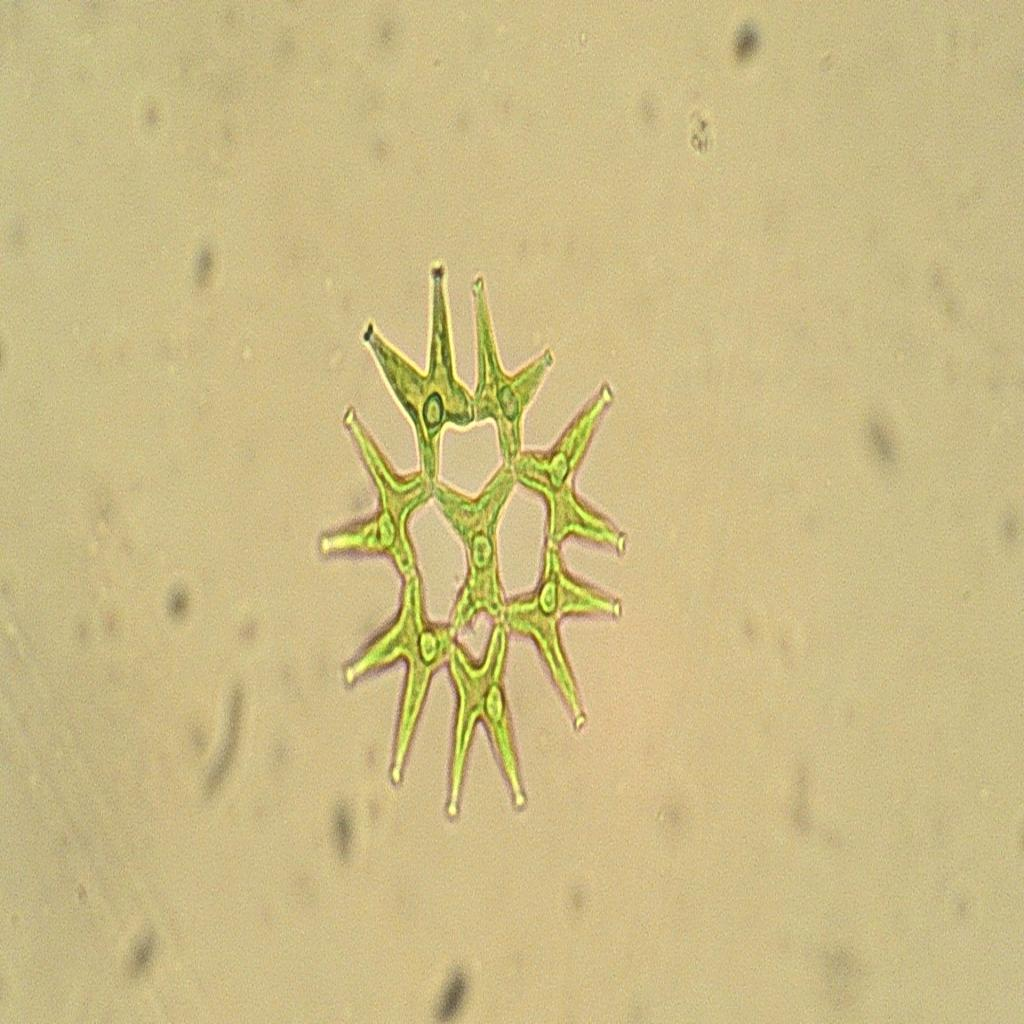Pediastrum_75T: (310, 239, 648, 832)
